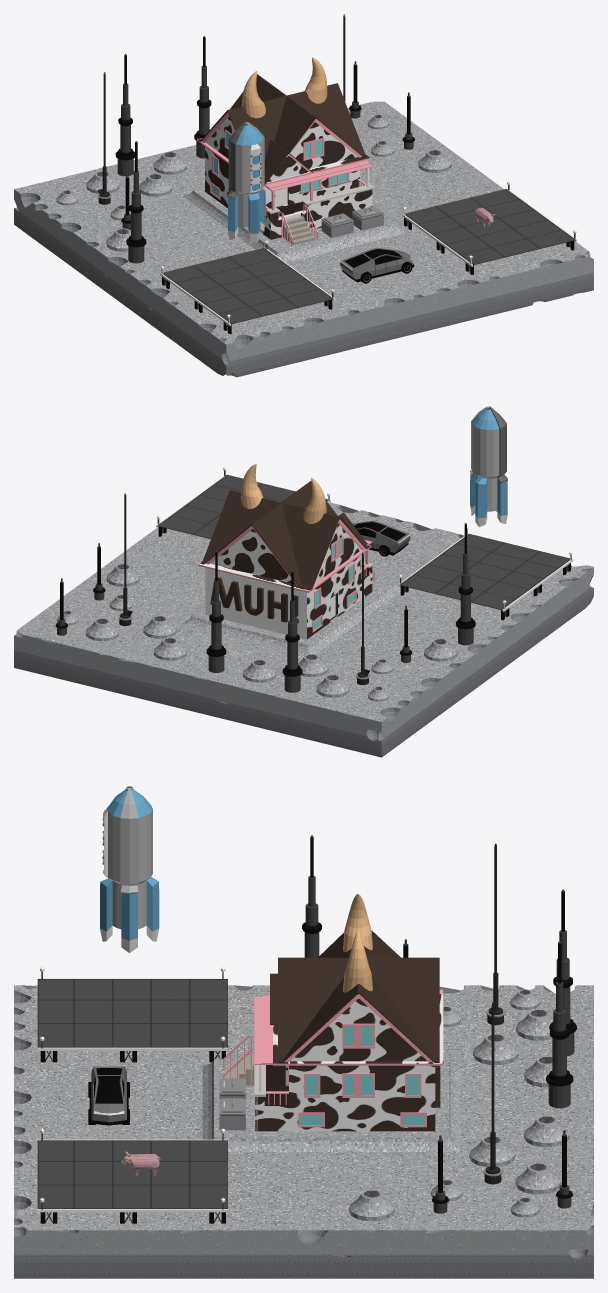
3 views of the same model, one above another, from view 1: azimuth 30°, elevation 25°; view 2: azimuth 150°, elevation 25°; view 3: azimuth 270°, elevation 25° (orthographic). The views are drawn at different scales.
Parts seen in each view (by area): view 1: Cube.027, Cube.1242, Cube.025, Cube.026, OBJRANDOM_ROCKETSHIP, Cube.028, VEHICLES_CYBERTRUCK, Cylinder.021, Cylinder.020, Cylinder.017, Cube.029, Cube.030 (+5 smaller); view 2: Cube.027, Cube.1242, Cube.025, OBJRANDOM_ROCKETSHIP, Cube.028, Cube.026, VEHICLES_CYBERTRUCK, Cylinder.020, Cylinder.017, Cylinder.021, Cylinder.028, Cylinder.025 (+8 smaller); view 3: Cube.027, Cube.1242, Cube.025, Cube.026, Cube.028, OBJRANDOM_ROCKETSHIP, VEHICLES_CYBERTRUCK, Cylinder.017, Cylinder.020, Cylinder.021, Cylinder.031, Cylinder.033 (+8 smaller).
Boxes of the visible parts, left/top/right/bottom form: Cube.027: left=14, top=101, right=593, bottom=377; Cube.1242: left=197, top=57, right=374, bottom=246; Cube.025: left=160, top=240, right=334, bottom=333; Cube.026: left=402, top=181, right=576, bottom=274; OBJRANDOM_ROCKETSHIP: left=227, top=122, right=265, bottom=242; Cube.028: left=183, top=187, right=405, bottom=262; VEHICLES_CYBERTRUCK: left=340, top=247, right=414, bottom=283; Cylinder.021: left=126, top=141, right=146, bottom=263; Cylinder.020: left=115, top=53, right=134, bottom=176; Cylinder.017: left=194, top=36, right=211, bottom=158; Cube.029: left=321, top=213, right=353, bottom=237; Cube.030: left=352, top=206, right=383, bottom=230; Cube.027: left=14, top=502, right=593, bottom=757; Cube.1242: left=198, top=464, right=374, bottom=639; Cube.025: left=398, top=526, right=573, bottom=620; OBJRANDOM_ROCKETSHIP: left=470, top=406, right=507, bottom=527; Cube.028: left=182, top=577, right=400, bottom=655; Cube.026: left=156, top=467, right=330, bottom=538; VEHICLES_CYBERTRUCK: left=352, top=520, right=410, bottom=556; Cylinder.020: left=282, top=570, right=302, bottom=692; Cylinder.017: left=206, top=550, right=226, bottom=672; Cylinder.021: left=456, top=523, right=475, bottom=645; Cylinder.028: left=316, top=674, right=349, bottom=697; Cylinder.025: left=424, top=638, right=457, bottom=661; Cube.027: left=14, top=985, right=593, bottom=1278; Cube.1242: left=223, top=893, right=443, bottom=1131; Cube.025: left=37, top=967, right=227, bottom=1062; Cube.026: left=37, top=1128, right=227, bottom=1223; Cube.028: left=202, top=1058, right=460, bottom=1151; OBJRANDOM_ROCKETSHIP: left=100, top=786, right=159, bottom=952; VEHICLES_CYBERTRUCK: left=88, top=1066, right=129, bottom=1125; Cylinder.017: left=546, top=941, right=573, bottom=1108; Cylinder.020: left=549, top=889, right=576, bottom=1056; Cylinder.021: left=302, top=835, right=321, bottom=957; Cylinder.031: left=515, top=1162, right=561, bottom=1194; Cylinder.033: left=349, top=1189, right=394, bottom=1220.
Bounding box in the file's own units: 4000 × 2245 × 4000.
Materials: 40 (4 with a texture image).
